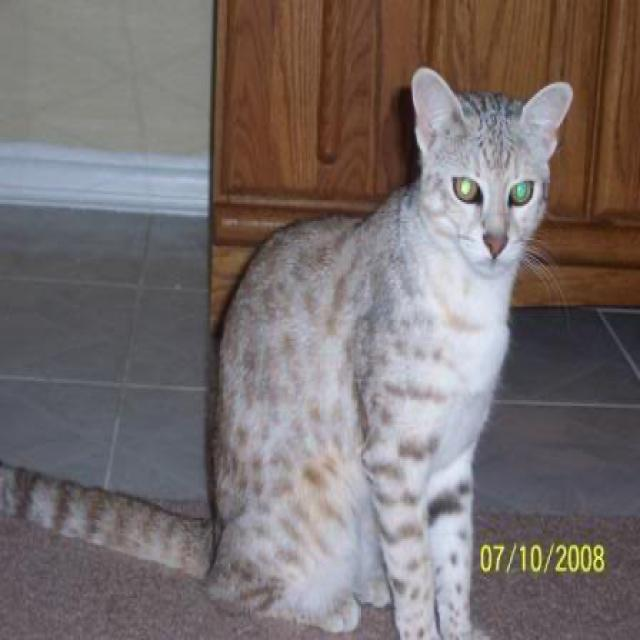cat: (410, 65, 570, 276)
